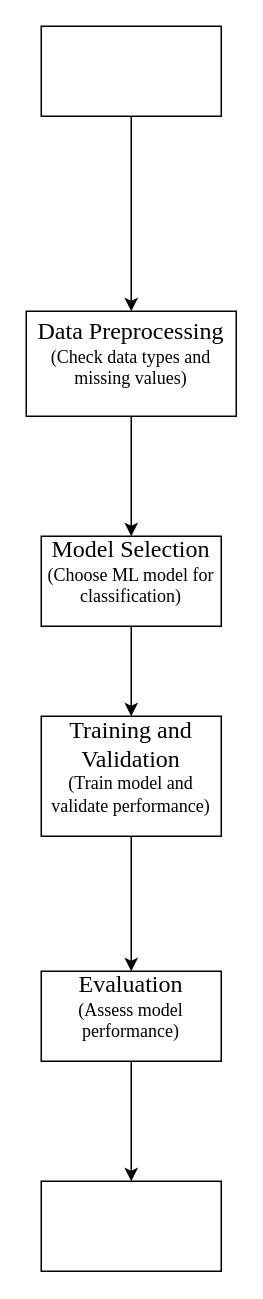
Some shapes in this 263 by 1299 pixel diagram are drawn without their labels. Here are the shapes that lost their labels. From the top down, the centre of each, then its label:
At (x=130, y=70): "Dataset Selection ( Iris Dataset – UCI )".
At (x=130, y=1225): "Final Model ( Model ready for prediction )".
